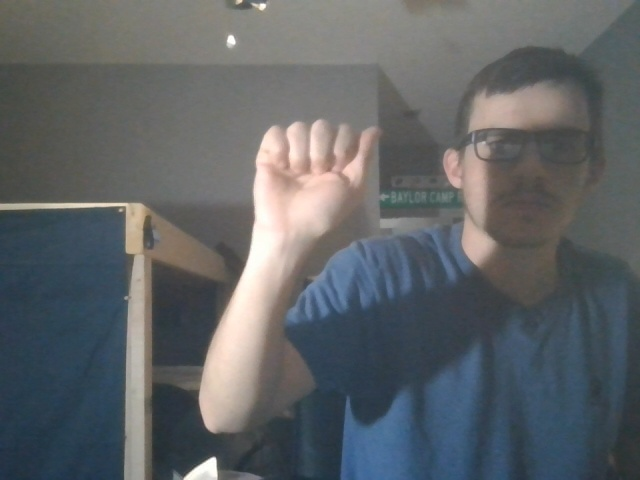A: (241, 110, 394, 243)
